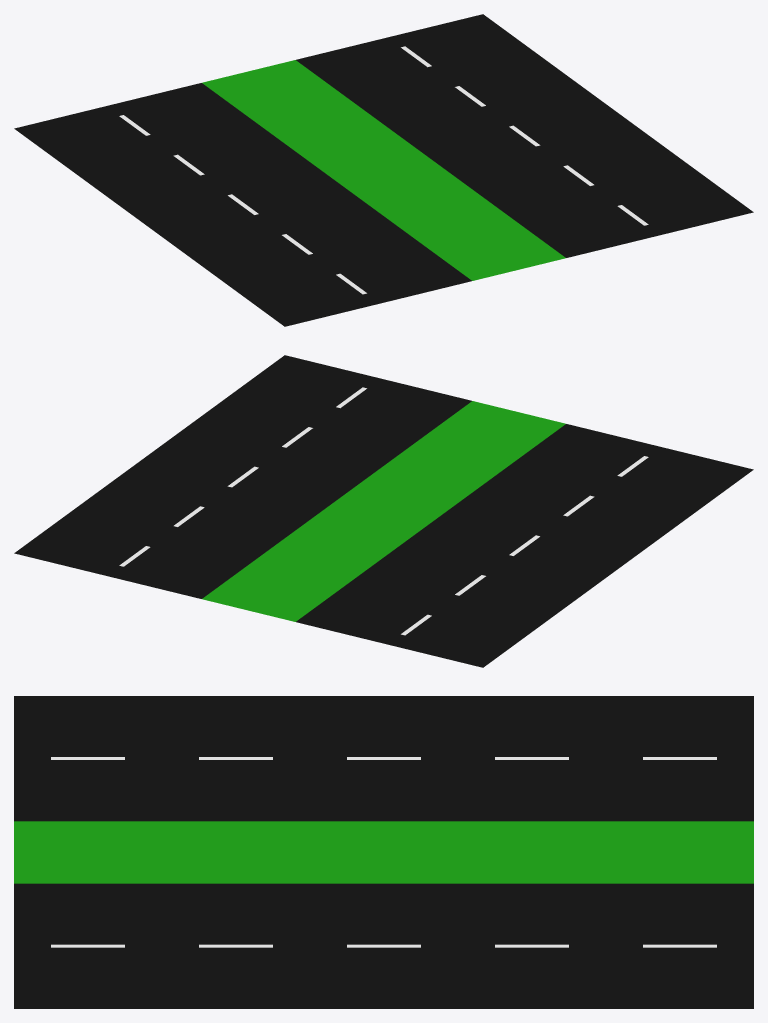
The model's file is Road_4_Lane.fbx.
3 renders of one model, top to bottom at view 1: azimuth 30°, elevation 25°; view 2: azimuth 150°, elevation 25°; view 3: azimuth 270°, elevation 25°, orthographic. The views are drawn at different scales.
Parts seen in each view (by area): view 1: Road_4_Lane; view 2: Road_4_Lane; view 3: Road_4_Lane.
Part boxes in pixels (x1,y1,x2,y2): Road_4_Lane: (14,14,753,326); Road_4_Lane: (14,355,753,667); Road_4_Lane: (14,696,753,1008).
Size of the model in its own units: 500 by 500 by 0.1.
